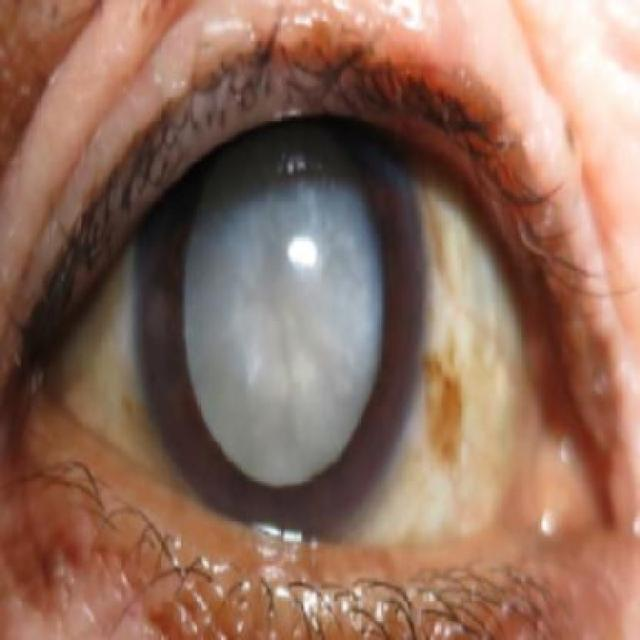Cataract: (129, 41, 431, 552)
